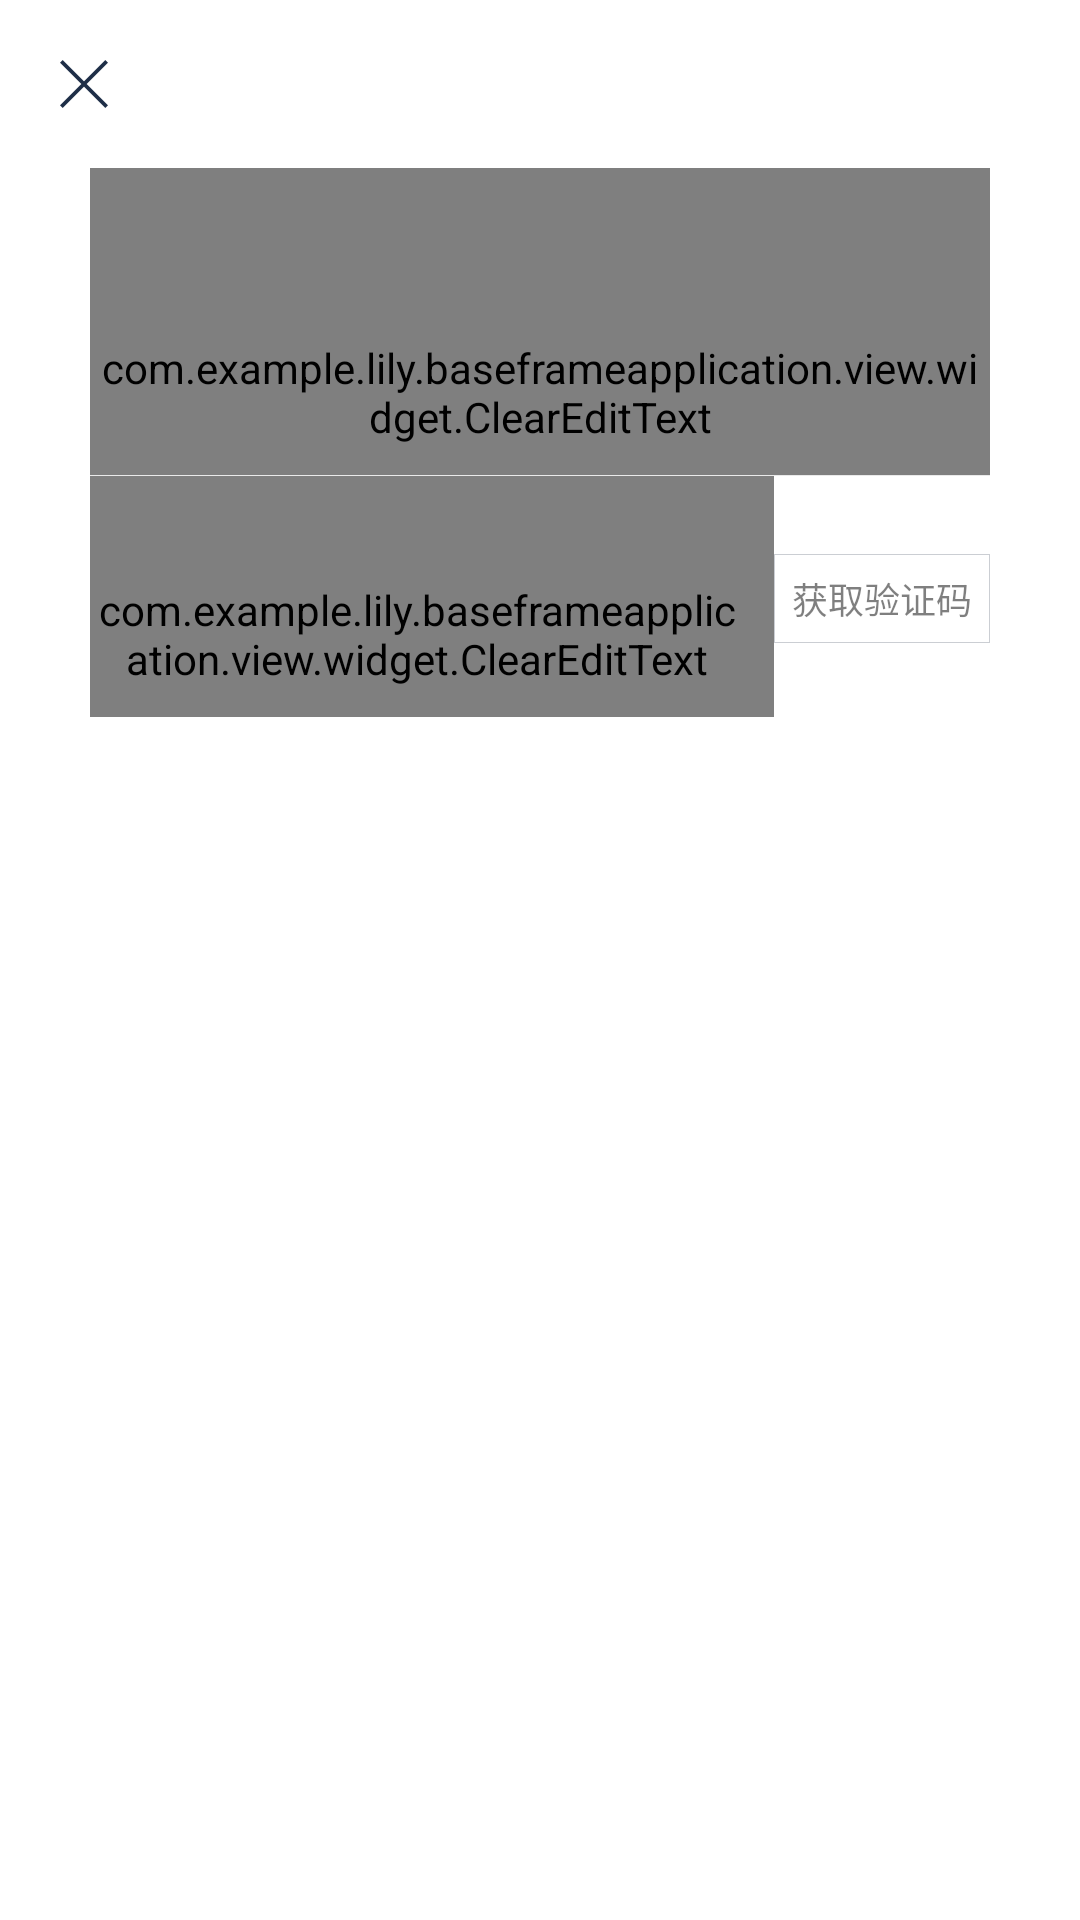

Icon click points for this 1080w x 1920h phone screenshot, format point (x, y):
ibt finish login: point (84, 84)
